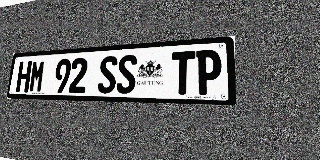2: (69, 57, 88, 93)
9: (53, 58, 72, 93)
H: (16, 61, 32, 92)
M: (29, 60, 46, 93)
P: (195, 49, 221, 95)
S: (116, 54, 138, 94), (97, 56, 118, 93)
T: (171, 51, 195, 95)
